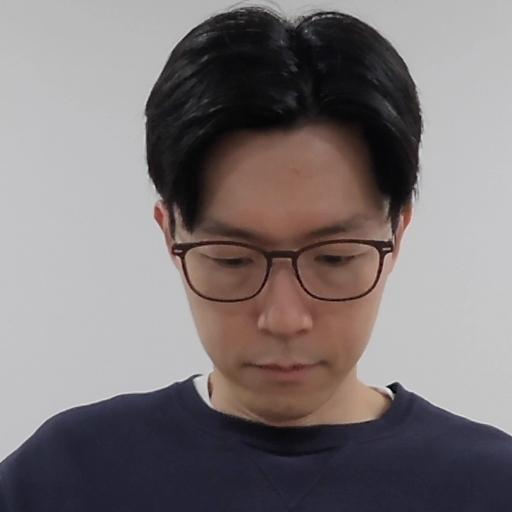no_glasses: (139, 1, 437, 434)
